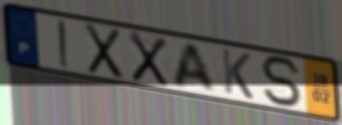A: (171, 41, 219, 95)
I: (56, 18, 72, 71)
K: (219, 47, 256, 102)
S: (258, 54, 306, 110)
X: (127, 29, 170, 89), (83, 21, 125, 82)
